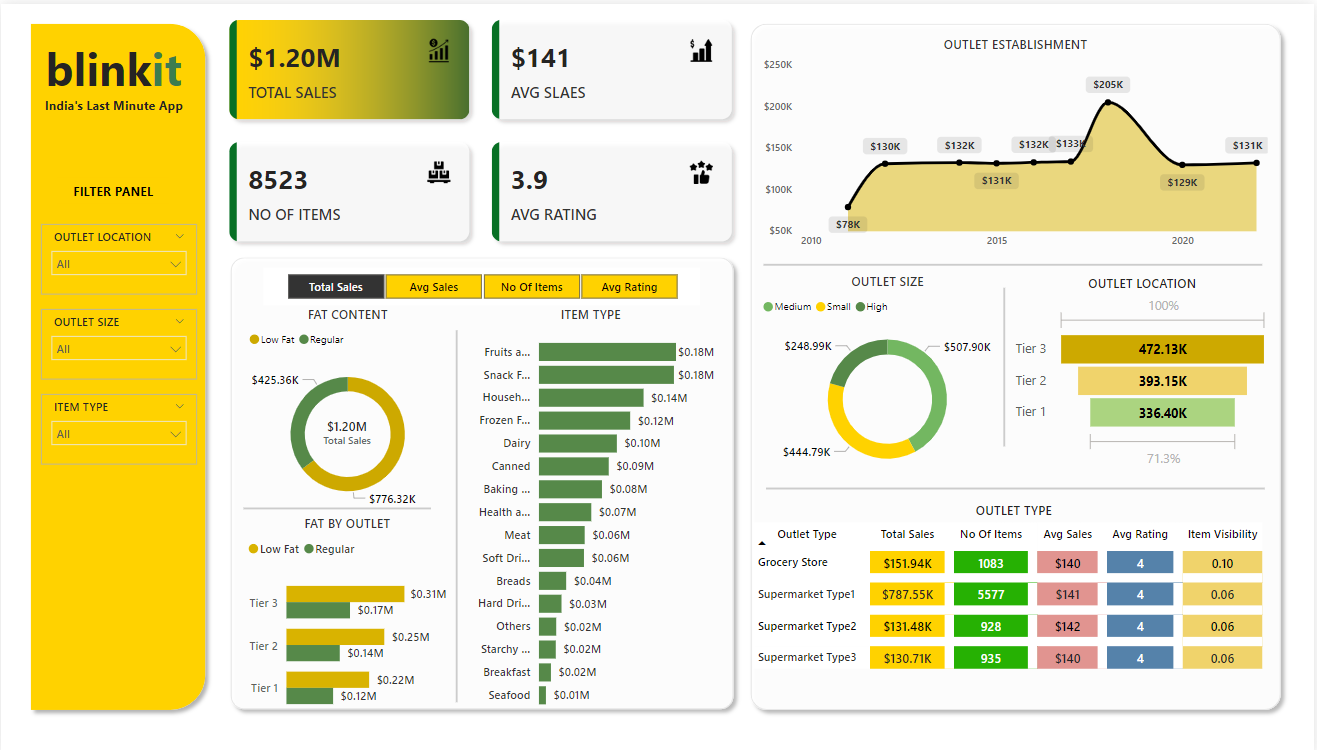

What the dashboard file says about the page in this screenshot:
{"tool":"powerbi","page":{"name":"Page 1","canvas":[1400,800],"ordinal":0},"visuals":[{"type":"shape","box":[22.9,11.4,204.3,750],"z":0},{"type":"textbox","box":[37.1,30,165.7,81.4],"z":1000},{"type":"textbox","box":[34.3,92.9,171.4,35.7],"z":2000},{"type":"cardVisual","fields":{"Data":["BlinkIT Grocery Data.Total Sales","BlinkIT Grocery Data.Avg Sales","BlinkIT Grocery Data.No Of Items","BlinkIT Grocery Data.Avg Rating"]},"box":[227.1,0,570,270],"z":3000},{"type":"shape","box":[235.7,261.4,554.3,500],"z":4000},{"type":"donutChart","title":"FAT CONTENT","fields":{"Y":["BlinkIT Grocery Data.Total Sales"],"Category":["BlinkIT Grocery Data.Item Fat Content"]},"box":[260,321.4,220,230],"z":5000},{"type":"slicer","fields":{"Values":["Metrics.Metrics"]},"box":[280,281.4,465.7,40],"z":6000},{"type":"cardVisual","fields":{"Data":["BlinkIT Grocery Data.Total Sales"]},"box":[327.1,424.3,85.7,58.6],"z":7000},{"type":"clusteredBarChart","title":"FAT BY OUTLET","fields":{"Y":["BlinkIT Grocery Data.Total Sales"],"Category":["BlinkIT Grocery Data.Outlet Location Type"],"Series":["BlinkIT Grocery Data.Item Fat Content"]},"box":[259,543.6,221.8,228.2],"z":8000},{"type":"shape","box":[259.1,531.8,200,12.1],"z":9000},{"type":"shape","box":[480.3,348.5,12.1,397],"z":10000},{"type":"barChart","title":"ITEM TYPE","fields":{"Y":["BlinkIT Grocery Data.Total Sales"],"Category":["BlinkIT Grocery Data.Item Type"]},"box":[492.4,321.2,274.2,440.9],"z":11000},{"type":"shape","box":[790.9,12.1,583.3,750],"z":12000},{"type":"lineChart","title":"OUTLET ESTABLISHMENT","fields":{"Y":["BlinkIT Grocery Data.Total Sales"],"Category":["BlinkIT Grocery Data.Outlet Establishment Year"]},"box":[807.6,33.3,548.5,236.4],"z":13000},{"type":"shape","box":[813.8,272.3,532.3,12.3],"z":14000},{"type":"donutChart","title":"OUTLET SIZE","fields":{"Y":["BlinkIT Grocery Data.Total Sales"],"Category":["BlinkIT Grocery Data.Outlet Size"]},"box":[807.7,286.2,275.4,224.6],"z":15000},{"type":"shape","box":[1064.6,303.1,12.3,169.2],"z":16000},{"type":"funnel","title":"OUTLET LOCATION","fields":{"Y":["Sum(BlinkIT Grocery Data.Sales)"],"Category":["BlinkIT Grocery Data.Outlet Location Type"]},"box":[1076.9,287.7,280,210.8],"z":17000},{"type":"shape","box":[815.4,510.8,532.3,12.3],"z":18000},{"type":"pivotTable","title":"OUTLET TYPE","fields":{"Rows":["BlinkIT Grocery Data.Outlet Type"],"Values":["BlinkIT Grocery Data.Total Sales","BlinkIT Grocery Data.No Of Items","BlinkIT Grocery Data.Avg Sales","BlinkIT Grocery Data.Avg Rating","Avg(BlinkIT Grocery Data.Item Visibility)"]},"box":[796.9,530.8,566.2,215.4],"z":19000},{"type":"slicer","fields":{"Values":["BlinkIT Grocery Data.Outlet Location Type"]},"box":[42.9,235.1,166.2,75.3],"z":20000},{"type":"slicer","fields":{"Values":["BlinkIT Grocery Data.Outlet Size"]},"box":[42.9,324.7,166.2,75.3],"z":21000},{"type":"slicer","fields":{"Values":["BlinkIT Grocery Data.Item Type"]},"box":[42.9,415.6,166.2,75.3],"z":22000},{"type":"textbox","box":[59.7,185.7,119.5,27.3],"z":22001}]}

Visuals, with their boxes in screenshot pixels (x1, y1, x2, y2), scaled from the page's 1400x800 canvas onto the 1317x750 screenshot:
shape: box(22, 11, 214, 714)
textbox: box(35, 28, 191, 104)
textbox: box(32, 87, 194, 121)
cardVisual - BlinkIT Grocery Data.Total Sales x BlinkIT Grocery Data.Avg Sales: box(214, 0, 750, 253)
shape: box(222, 245, 743, 714)
"FAT CONTENT" donutChart: box(245, 301, 452, 517)
slicer - Metrics.Metrics: box(263, 264, 701, 301)
cardVisual - BlinkIT Grocery Data.Total Sales: box(308, 398, 388, 453)
"FAT BY OUTLET" clusteredBarChart: box(244, 510, 452, 724)
shape: box(244, 499, 432, 510)
shape: box(452, 327, 463, 699)
"ITEM TYPE" barChart: box(463, 301, 721, 714)
shape: box(744, 11, 1293, 714)
"OUTLET ESTABLISHMENT" lineChart: box(760, 31, 1276, 253)
shape: box(766, 255, 1266, 267)
"OUTLET SIZE" donutChart: box(760, 268, 1019, 479)
shape: box(1001, 284, 1013, 443)
"OUTLET LOCATION" funnel: box(1013, 270, 1276, 467)
shape: box(767, 479, 1268, 490)
"OUTLET TYPE" pivotTable: box(750, 498, 1282, 700)
slicer - BlinkIT Grocery Data.Outlet Location Type: box(40, 220, 197, 291)
slicer - BlinkIT Grocery Data.Outlet Size: box(40, 304, 197, 375)
slicer - BlinkIT Grocery Data.Item Type: box(40, 390, 197, 460)
textbox: box(56, 174, 169, 200)
